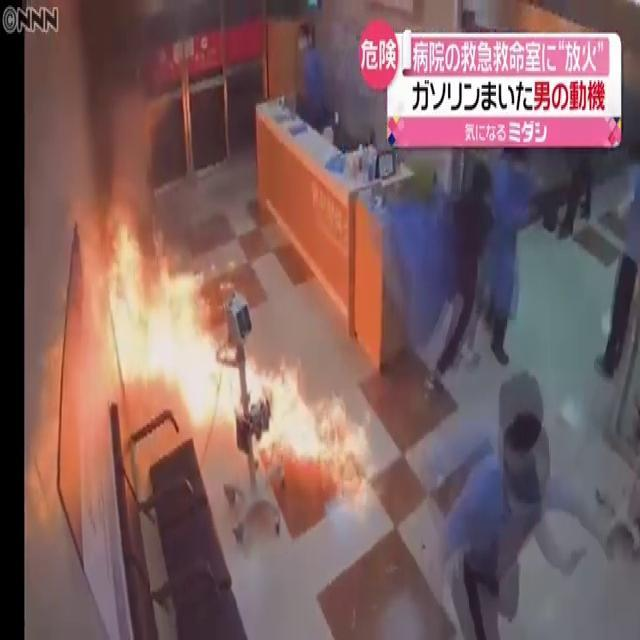Fire: (91, 212, 239, 422), (236, 346, 369, 496)
Smoke: (24, 1, 174, 234)
